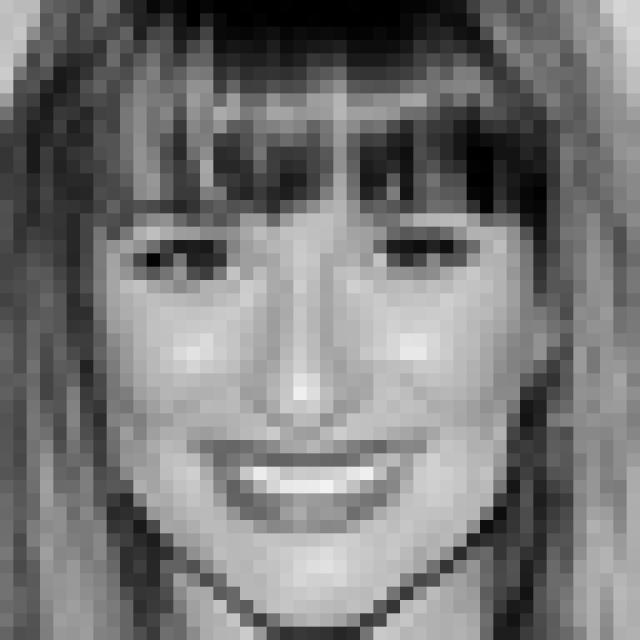happy: (97, 180, 521, 542)
